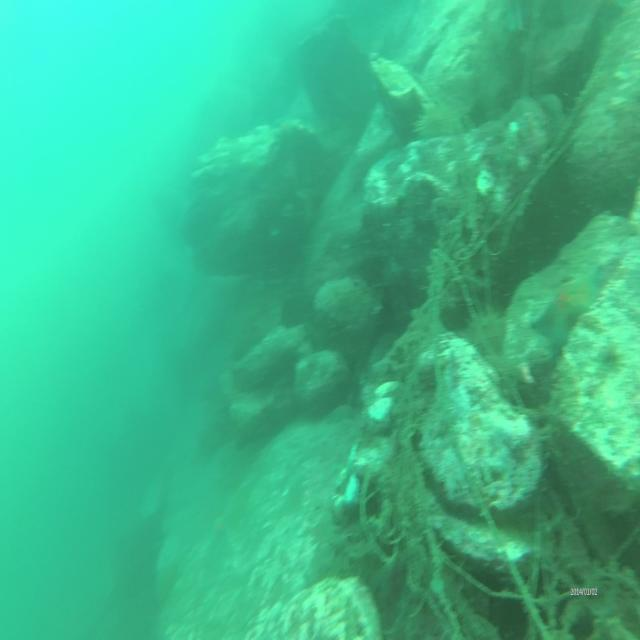starfish: (531, 270, 596, 352)
